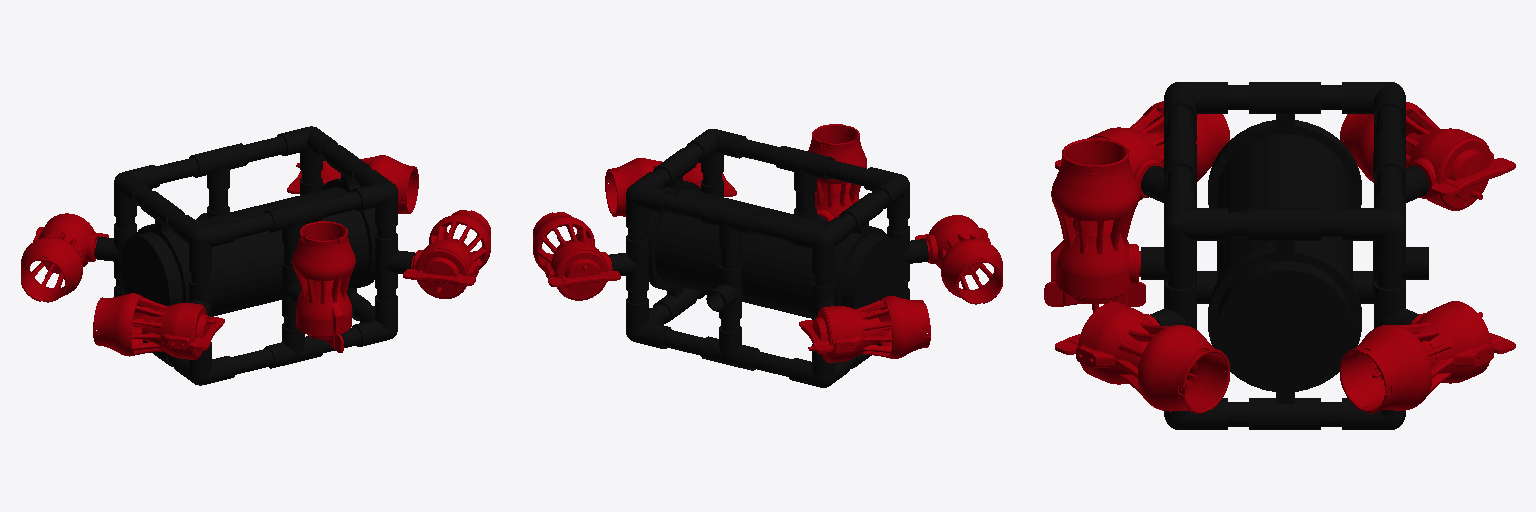
URDF robot description (sub):
<robot name="sub" version="1.0">
  <joint name="camera_link_joint" type="fixed">
    <origin rpy="0.00000 0.00000 0.00000" xyz="0.14000 0.00000 0.00000"/>
    <parent link="base_link"/>
    <child link="camera_link"/>
  </joint>
  <joint name="front_left_thruster_link_joint" type="fixed">
    <origin rpy="1.57080 0.00000 0.78540" xyz="0.20484 0.11067 0.00000"/>
    <parent link="base_link"/>
    <child link="front_left_thruster_link"/>
  </joint>
  <joint name="vertical_left_thruster_link_joint" type="fixed">
    <origin rpy="0.00000 0.00000 0.00000" xyz="0.00000 0.15925 0.03229"/>
    <parent link="base_link"/>
    <child link="vertical_left_thruster_link"/>
  </joint>
  <joint name="vertical_left_propeller_link_joint" type="revolute">
    <limit lower="-3.14000" upper="3.14000" effort="0.00000" velocity="0.00000"/>
    <origin rpy="0.00000 0.00000 0.00000" xyz="0.00000 0.00018 0.04451"/>
    <parent link="vertical_left_thruster_link"/>
    <child link="vertical_left_propeller_link"/>
    <axis xyz="0.00000 0.00000 1.00000"/>
  </joint>
  <joint name="vertical_right_thruster_link_joint" type="fixed">
    <origin rpy="0.00000 0.00000 0.00000" xyz="0.00000 -0.15925 0.03229"/>
    <parent link="base_link"/>
    <child link="vertical_right_thruster_link"/>
  </joint>
  <joint name="vertical_right_propeller_link_joint" type="revolute">
    <limit lower="-3.14000" upper="3.14000" effort="0.00000" velocity="0.00000"/>
    <origin rpy="0.00000 0.00000 0.00000" xyz="0.00000 0.00000 0.04451"/>
    <parent link="vertical_right_thruster_link"/>
    <child link="vertical_right_propeller_link"/>
    <axis xyz="0.00000 0.00000 1.00000"/>
  </joint>
  <joint name="front_left_propeller_link_joint" type="revolute">
    <limit lower="-3.14000" upper="3.14000" effort="0.00000" velocity="0.00000"/>
    <origin rpy="0.00000 -0.00000 0.00000" xyz="-0.00026 0.00000 0.04445"/>
    <parent link="front_left_thruster_link"/>
    <child link="front_left_propeller_link"/>
    <axis xyz="0.00000 0.00000 1.00000"/>
  </joint>
  <joint name="front_right_thruster_link_joint" type="fixed">
    <origin rpy="-1.57080 0.00000 -0.78540" xyz="0.20484 -0.11067 0.00000"/>
    <parent link="base_link"/>
    <child link="front_right_thruster_link"/>
  </joint>
  <joint name="front_right_propeller_link_joint" type="revolute">
    <limit lower="-3.14000" upper="3.14000" effort="0.00000" velocity="0.00000"/>
    <origin rpy="-0.00000 -0.00000 -0.00000" xyz="-0.00026 -0.00000 0.04445"/>
    <parent link="front_right_thruster_link"/>
    <child link="front_right_propeller_link"/>
    <axis xyz="0.00000 0.00000 1.00000"/>
  </joint>
  <joint name="imu_link_joint" type="fixed">
    <origin rpy="0.00000 0.00000 0.00000" xyz="-0.06000 0.00000 0.00000"/>
    <parent link="base_link"/>
    <child link="imu_link"/>
  </joint>
  <joint name="rear_left_thruster_link_joint" type="fixed">
    <origin rpy="-1.57080 0.00000 2.35619" xyz="-0.20484 0.11067 0.00000"/>
    <parent link="base_link"/>
    <child link="rear_left_thruster_link"/>
  </joint>
  <joint name="rear_left_propeller_link_joint" type="revolute">
    <limit lower="-3.14000" upper="3.14000" effort="0.00000" velocity="0.00000"/>
    <origin rpy="0.00000 0.00000 -0.00000" xyz="-0.00026 -0.00000 0.04445"/>
    <parent link="rear_left_thruster_link"/>
    <child link="rear_left_propeller_link"/>
    <axis xyz="0.00000 0.00000 1.00000"/>
  </joint>
  <joint name="rear_right_thruster_link_joint" type="fixed">
    <origin rpy="1.57080 0.00000 -2.35619" xyz="-0.20484 -0.11067 0.00000"/>
    <parent link="base_link"/>
    <child link="rear_right_thruster_link"/>
  </joint>
  <joint name="rear_right_propeller_link_joint" type="revolute">
    <limit lower="-3.14000" upper="3.14000" effort="0.00000" velocity="0.00000"/>
    <origin rpy="-0.00000 0.00000 0.00000" xyz="-0.00026 0.00000 0.04445"/>
    <parent link="rear_right_thruster_link"/>
    <child link="rear_right_propeller_link"/>
    <axis xyz="0.00000 0.00000 1.00000"/>
  </joint>
  <link name="base_link">
    <collision name="base_collision">
      <origin rpy="0.00000 0.00000 0.00000" xyz="0.00000 0.00000 0.00000"/>
      <geometry>
        <box size="0.30081 0.21589 0.20572"/>
      </geometry>
    </collision>
    <inertial>
      <inertia ixx="249.68401" ixy="0.00000" ixz="0.00000" iyy="356.19847" iyz="0.00000" izz="399.43128"/>
      <origin rpy="0.00000 0.00000 0.00000" xyz="0.00000 0.00000 0.00000"/>
      <mass value="3.00000"/>
    </inertial>
    <visual name="base">
      <material name="frame_material"/>
      <origin rpy="1.57080 0.00000 0.00000" xyz="0.00000 0.00000 0.00000"/>
      <geometry>
        <mesh filename="../meshes/stl/Basic Sub.stl" scale="1.00000 1.00000 1.00000"/>
      </geometry>
    </visual>
  </link>
  <link name="camera_link">
    <sensor name="camera_sensor" type="camera">
      <origin rpy="-0.00000 1.57080 0.00000" xyz="-0.00000 0.00000 0.00000"/>
      <parent link="camera_link"/>
      <camera>
        <image>
          <width>1280</width>
          <height>720</height>
          <hfov>1.57080</hfov>
        </image>
      </camera>
    </sensor>
  </link>
  <link name="rear_right_propeller_link">
    <inertial>
      <inertia ixx="0.00102" ixy="-0.00000" ixz="-0.00000" iyy="0.00102" iyz="0.00000" izz="0.00098"/>
      <origin rpy="0.00000 0.00000 0.00000" xyz="0.00043 0.00044 0.00006"/>
      <mass value="0.00050"/>
    </inertial>
    <visual name="rear_right_propeller">
      <material name="propeller_material"/>
      <origin rpy="-1.57080 0.00000 3.14159" xyz="0.00043 0.00044 0.00006"/>
      <geometry>
        <mesh filename="../meshes/stl/prop_40.008.stl" scale="1.00000 1.00000 1.00000"/>
      </geometry>
    </visual>
  </link>
  <link name="vertical_left_thruster_link">
    <collision name="vertical_left_thruster_collision">
      <origin rpy="0.00000 0.00000 0.00000" xyz="0.00000 0.00028 0.00000"/>
      <geometry>
        <cylinder radius="0.04181" length="0.14389"/>
      </geometry>
    </collision>
    <inertial>
      <inertia ixx="5.86360" ixy="0.00000" ixz="-0.00000" iyy="5.86360" iyz="-0.00000" izz="3.27121"/>
      <origin rpy="0.00000 0.00000 0.00000" xyz="0.00000 0.00028 -0.00000"/>
      <mass value="0.25000"/>
    </inertial>
    <visual name="vertical_left_thruster">
      <material name="thruster_material"/>
      <origin rpy="3.14159 0.00000 -1.57080" xyz="0.00000 0.00028 0.00000"/>
      <geometry>
        <mesh filename="../meshes/stl/Shroud.005.stl" scale="1.00000 1.00000 1.00000"/>
      </geometry>
    </visual>
  </link>
  <link name="vertical_left_propeller_link">
    <inertial>
      <inertia ixx="0.00098" ixy="-0.00000" ixz="0.00000" iyy="0.00102" iyz="0.00000" izz="0.00102"/>
      <origin rpy="0.00000 0.00000 0.00000" xyz="-0.00102 0.00055 0.00000"/>
      <mass value="0.00050"/>
    </inertial>
    <visual name="vertical_left_propeller">
      <material name="propeller_material"/>
      <origin rpy="-1.57080 0.00000 -1.57080" xyz="-0.00102 0.00055 0.00000"/>
      <geometry>
        <mesh filename="../meshes/stl/prop_40.stl" scale="1.00000 1.00000 1.00000"/>
      </geometry>
    </visual>
  </link>
  <link name="vertical_right_thruster_link">
    <collision name="vertical_right_thruster_collision">
      <origin rpy="0.00000 0.00000 0.00000" xyz="0.00000 0.00000 0.00000"/>
      <geometry>
        <cylinder radius="0.04181" length="0.14389"/>
      </geometry>
    </collision>
    <inertial>
      <inertia ixx="5.86360" ixy="0.00000" ixz="0.00000" iyy="5.86360" iyz="0.00000" izz="3.27121"/>
      <origin rpy="0.00000 0.00000 0.00000" xyz="0.00000 0.00000 -0.00000"/>
      <mass value="0.25000"/>
    </inertial>
    <visual name="vertical_right_thruster">
      <material name="thruster_material"/>
      <origin rpy="3.14159 -0.00000 1.57080" xyz="0.00000 0.00000 0.00000"/>
      <geometry>
        <mesh filename="../meshes/stl/Shroud.004.stl" scale="1.00000 1.00000 1.00000"/>
      </geometry>
    </visual>
  </link>
  <link name="vertical_right_propeller_link">
    <inertial>
      <inertia ixx="0.00098" ixy="-0.00000" ixz="-0.00000" iyy="0.00102" iyz="-0.00000" izz="0.00102"/>
      <origin rpy="0.00000 0.00000 0.00000" xyz="0.00058 -0.00018 0.00000"/>
      <mass value="0.00050"/>
    </inertial>
    <visual name="vertical_right_propeller">
      <material name="propeller_material"/>
      <origin rpy="-1.57080 0.00000 1.57080" xyz="0.00058 -0.00018 0.00000"/>
      <geometry>
        <mesh filename="../meshes/stl/prop_40.006.stl" scale="1.00000 1.00000 1.00000"/>
      </geometry>
    </visual>
  </link>
  <link name="front_left_thruster_link">
    <collision name="front_left_thruster_collision">
      <origin rpy="3.14159 0.00000 -3.14159" xyz="0.00043 -0.00000 -0.00680"/>
      <geometry>
        <cylinder radius="0.04181" length="0.14389"/>
      </geometry>
    </collision>
    <inertial>
      <inertia ixx="4.56741" ixy="1.29620" ixz="0.00000" iyy="4.56741" iyz="-0.00000" izz="5.86361"/>
      <origin rpy="0.00000 0.00000 0.00000" xyz="-0.00000 -0.00000 -0.00000"/>
      <mass value="0.25000"/>
    </inertial>
    <visual name="front_left_thruster">
      <material name="thruster_material"/>
      <origin rpy="-3.14159 -0.00000 -3.14159" xyz="-0.00000 0.00000 0.00000"/>
      <geometry>
        <mesh filename="../meshes/stl/Shroud.001.stl" scale="1.00000 1.00000 1.00000"/>
      </geometry>
    </visual>
  </link>
  <link name="front_left_propeller_link">
    <inertial>
      <inertia ixx="0.00102" ixy="-0.00000" ixz="0.00000" iyy="0.00102" iyz="-0.00000" izz="0.00098"/>
      <origin rpy="0.00000 0.00000 0.00000" xyz="-0.00014 0.00024 0.00019"/>
      <mass value="0.00050"/>
    </inertial>
    <visual name="front_left_propeller">
      <material name="propeller_material"/>
      <origin rpy="-1.57080 -0.00000 -3.14159" xyz="-0.00014 0.00024 0.00019"/>
      <geometry>
        <mesh filename="../meshes/stl/prop_40.009.stl" scale="1.00000 1.00000 1.00000"/>
      </geometry>
    </visual>
  </link>
  <link name="front_right_thruster_link">
    <collision name="front_right_thruster_collision">
      <origin rpy="-0.00000 0.00000 3.14159" xyz="0.00043 0.00000 -0.00680"/>
      <geometry>
        <cylinder radius="0.04181" length="0.14389"/>
      </geometry>
    </collision>
    <inertial>
      <inertia ixx="4.56741" ixy="-1.29620" ixz="0.00000" iyy="4.56741" iyz="0.00000" izz="5.86361"/>
      <origin rpy="0.00000 0.00000 0.00000" xyz="-0.00000 0.00000 0.00000"/>
      <mass value="0.25000"/>
    </inertial>
    <visual name="front_right_thruster">
      <material name="thruster_material"/>
      <origin rpy="3.14159 0.00000 3.14159" xyz="-0.00000 0.00000 0.00000"/>
      <geometry>
        <mesh filename="../meshes/stl/Shroud.stl" scale="1.00000 1.00000 1.00000"/>
      </geometry>
    </visual>
  </link>
  <link name="front_right_propeller_link">
    <inertial>
      <inertia ixx="0.00102" ixy="-0.00000" ixz="-0.00000" iyy="0.00102" iyz="-0.00000" izz="0.00098"/>
      <origin rpy="0.00000 0.00000 0.00000" xyz="-0.00072 0.00008 -0.00011"/>
      <mass value="0.00050"/>
    </inertial>
    <visual name="front_right_propeller">
      <material name="propeller_material"/>
      <origin rpy="-1.57080 0.00000 3.14159" xyz="-0.00072 0.00008 -0.00011"/>
      <geometry>
        <mesh filename="../meshes/stl/prop_40.010.stl" scale="1.00000 1.00000 1.00000"/>
      </geometry>
    </visual>
  </link>
  <link name="imu_link">
    <sensor name="imu_sensor" type="imu">
      <parent link="imu_link"/>
    </sensor>
  </link>
  <link name="rear_left_thruster_link">
    <collision name="rear_left_thruster_collision">
      <origin rpy="-0.00000 -0.00000 3.14159" xyz="0.00043 0.00000 -0.00680"/>
      <geometry>
        <cylinder radius="0.04181" length="0.14389"/>
      </geometry>
    </collision>
    <inertial>
      <inertia ixx="4.56741" ixy="-1.29620" ixz="0.00000" iyy="4.56741" iyz="0.00000" izz="5.86360"/>
      <origin rpy="0.00000 0.00000 0.00000" xyz="-0.00000 -0.00000 -0.00000"/>
      <mass value="0.25000"/>
    </inertial>
    <visual name="rear_left_thruster">
      <material name="thruster_material"/>
      <origin rpy="3.14159 -0.00000 3.14159" xyz="-0.00000 0.00000 -0.00000"/>
      <geometry>
        <mesh filename="../meshes/stl/Shroud.003.stl" scale="1.00000 1.00000 1.00000"/>
      </geometry>
    </visual>
  </link>
  <link name="rear_left_propeller_link">
    <inertial>
      <inertia ixx="0.00102" ixy="-0.00000" ixz="-0.00000" iyy="0.00102" iyz="0.00000" izz="0.00098"/>
      <origin rpy="0.00000 0.00000 0.00000" xyz="-0.00166 -0.00004 0.00027"/>
      <mass value="0.00050"/>
    </inertial>
    <visual name="rear_left_propeller">
      <material name="propeller_material"/>
      <origin rpy="-1.57080 0.00000 3.14159" xyz="-0.00166 -0.00004 0.00027"/>
      <geometry>
        <mesh filename="../meshes/stl/prop_40.007.stl" scale="1.00000 1.00000 1.00000"/>
      </geometry>
    </visual>
  </link>
  <link name="rear_right_thruster_link">
    <collision name="rear_right_thruster_collision">
      <origin rpy="-3.14159 -0.00000 -3.14159" xyz="0.00043 -0.00000 -0.00680"/>
      <geometry>
        <cylinder radius="0.04181" length="0.14389"/>
      </geometry>
    </collision>
    <inertial>
      <inertia ixx="4.56741" ixy="1.29620" ixz="0.00000" iyy="4.56741" iyz="-0.00000" izz="5.86360"/>
      <origin rpy="0.00000 0.00000 0.00000" xyz="-0.00000 0.00000 -0.00000"/>
      <mass value="0.25000"/>
    </inertial>
    <visual name="rear_right_thruster">
      <material name="thruster_material"/>
      <origin rpy="-3.14159 -0.00000 -3.14159" xyz="-0.00000 -0.00000 -0.00000"/>
      <geometry>
        <mesh filename="../meshes/stl/Shroud.002.stl" scale="1.00000 1.00000 1.00000"/>
      </geometry>
    </visual>
  </link>
  <material name="frame_material">
    <color rgba="0.09020 0.09020 0.09020 1.00000"/>
  </material>
  <material name="propeller_material">
    <color rgba="1.00000 0.89804 0.01569 1.00000"/>
  </material>
  <material name="thruster_material">
    <color rgba="0.64314 0.02353 0.07059 1.00000"/>
  </material>
</robot>

--- What the picture shows (computed from the rendered views, not written in the file) ---
Views: 3 orthographic renders of the robot side by side, from view 1: azimuth 30°, elevation 25°; view 2: azimuth 150°, elevation 25°; view 3: azimuth 270°, elevation 25°.
Model sub with 15 links and 14 joints (6 revolute, 8 fixed), rooted at base_link, posed every joint at zero.
Visible links, largest first — view 1: base_link, rear_right_thruster_link, vertical_right_thruster_link, front_right_thruster_link, rear_left_thruster_link, front_left_thruster_link; view 2: base_link, rear_left_thruster_link, front_left_thruster_link, rear_right_thruster_link, vertical_right_thruster_link, front_right_thruster_link; view 3: base_link, vertical_right_thruster_link, front_left_thruster_link, front_right_thruster_link, rear_left_thruster_link, rear_right_thruster_link.
Link boxes in pixels (x1,y1,x2,y2): base_link: (95,126,414,385); rear_right_thruster_link: (93,293,224,359); vertical_right_thruster_link: (292,221,355,352); front_right_thruster_link: (403,210,490,298); rear_left_thruster_link: (21,213,108,302); front_left_thruster_link: (287,155,418,213); base_link: (609,129,928,387); rear_left_thruster_link: (799,296,930,362); front_left_thruster_link: (533,212,620,300); rear_right_thruster_link: (915,215,1002,304); vertical_right_thruster_link: (808,124,866,221); front_right_thruster_link: (605,158,736,216); base_link: (1141,82,1428,429); vertical_right_thruster_link: (1044,138,1145,312); front_left_thruster_link: (1340,301,1515,413); front_right_thruster_link: (1055,302,1229,413); rear_left_thruster_link: (1340,102,1515,210); rear_right_thruster_link: (1055,101,1229,200).
Bounding box of the posed robot: 0.5394 × 0.3961 × 0.2032 m (x, y, z).
6 mesh visuals loaded from 13 distinct referenced files (6 binary STL); not drawn: 7 (reference not matched to a file when rendering).